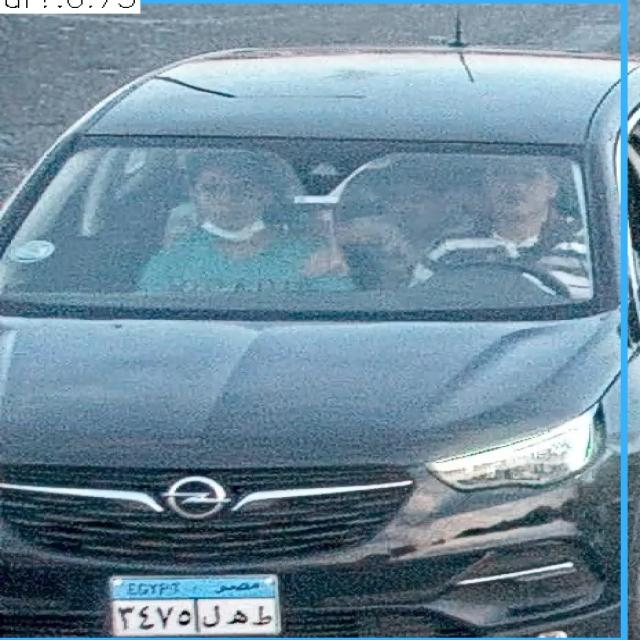windshield: (3, 139, 603, 321)
